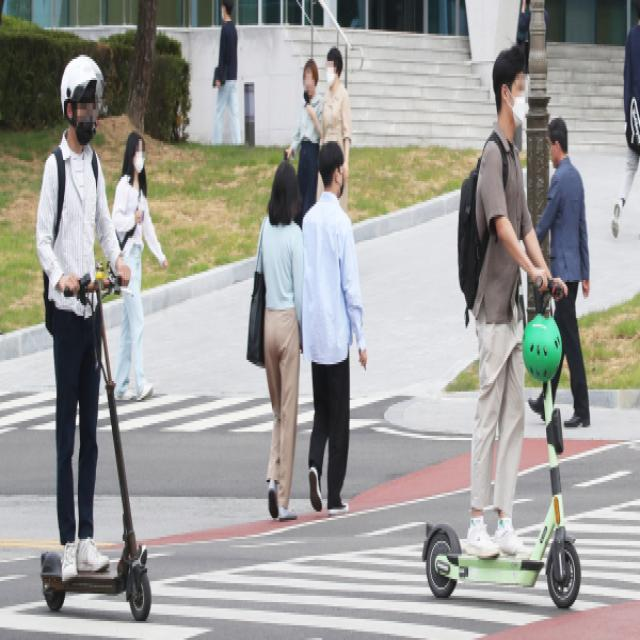helmet: (29, 46, 154, 624)
non-helmet: (416, 41, 583, 612)
